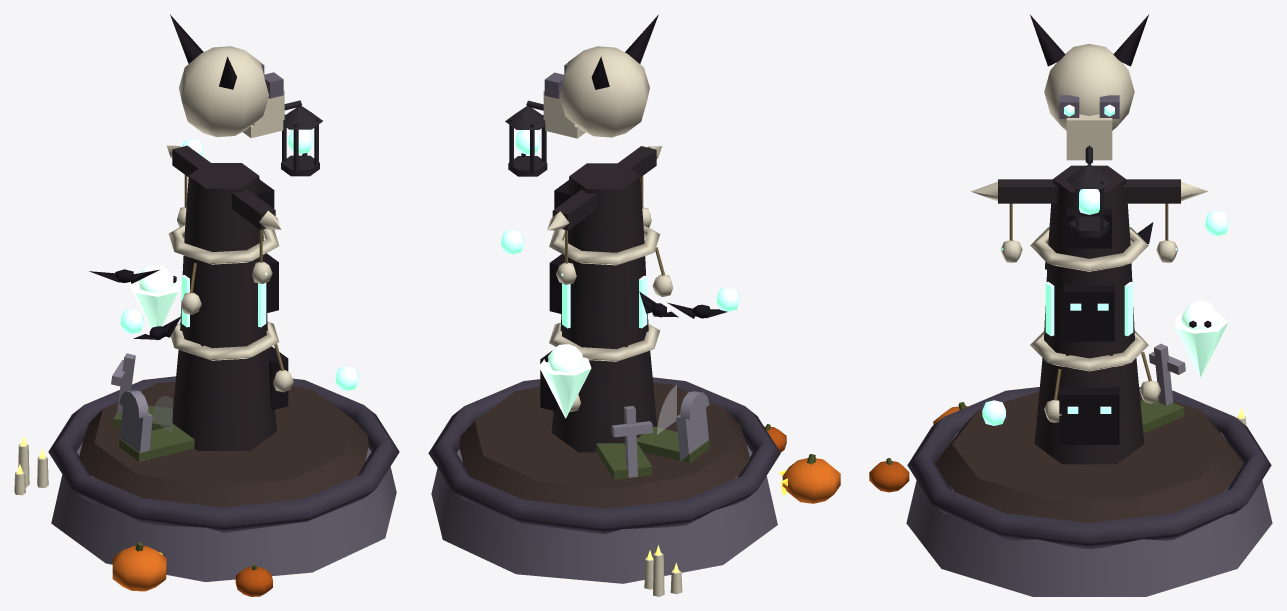
File: tower_necromancer_soulChoir.glb
3 views of the same model, side by side, from view 1: azimuth 30°, elevation 25°; view 2: azimuth 150°, elevation 25°; view 3: azimuth 270°, elevation 25° (orthographic). The views are drawn at different scales.
Parts seen in each view (by area): view 1: grave_soil, base, base_rim, pole_0, skull_cranium, pole_1, pole_2, deco_hw_jack_body, bone_ring_1, crossbar, bone_ring_0, deco_hw_grave_0_mound (+14 smaller); view 2: grave_soil, base, base_rim, pole_0, pole_1, skull_cranium, pole_2, deco_hw_jack_body, crossbar, bone_ring_1, bone_ring_0, deco_hw_ghost_sheet (+12 smaller); view 3: grave_soil, base, base_rim, pole_0, skull_cranium, pole_1, pole_2, pole_face_0, crossbar, pole_face_1, bone_ring_1, bone_ring_0 (+11 smaller).
Part boxes in pixels (bbox=[...]): grave_soil: bbox=[79, 381, 368, 507]; base: bbox=[51, 442, 396, 582]; base_rim: bbox=[48, 376, 399, 532]; pole_0: bbox=[172, 348, 276, 450]; skull_cranium: bbox=[179, 46, 268, 137]; pole_1: bbox=[180, 240, 267, 348]; pole_2: bbox=[184, 163, 263, 251]; deco_hw_jack_body: bbox=[112, 546, 166, 591]; bone_ring_1: bbox=[168, 224, 279, 264]; crossbar: bbox=[172, 145, 275, 229]; bone_ring_0: bbox=[170, 322, 279, 360]; deco_hw_grave_0_mound: bbox=[119, 425, 194, 461]; grave_soil: bbox=[459, 382, 749, 508]; base: bbox=[431, 444, 777, 583]; base_rim: bbox=[428, 377, 780, 534]; pole_0: bbox=[551, 350, 657, 452]; pole_1: bbox=[560, 240, 648, 349]; skull_cranium: bbox=[559, 46, 649, 137]; pole_2: bbox=[568, 163, 644, 252]; deco_hw_jack_body: bbox=[782, 458, 840, 503]; crossbar: bbox=[552, 146, 656, 230]; bone_ring_1: bbox=[549, 225, 660, 265]; bone_ring_0: bbox=[549, 322, 660, 361]; deco_hw_ghost_sheet: bbox=[539, 357, 591, 418]; grave_soil: bbox=[935, 391, 1243, 522]; base: bbox=[906, 432, 1272, 596]; base_rim: bbox=[907, 387, 1271, 549]; pole_0: bbox=[1034, 358, 1144, 464]; skull_cranium: bbox=[1044, 44, 1134, 130]; pole_1: bbox=[1044, 247, 1134, 358]; pole_2: bbox=[1048, 165, 1130, 258]; pole_face_0: bbox=[1059, 386, 1119, 444]; crossbar: bbox=[998, 179, 1180, 203]; pole_face_1: bbox=[1064, 283, 1114, 341]; bone_ring_1: bbox=[1030, 227, 1148, 271]; bone_ring_0: bbox=[1030, 331, 1148, 371].
Bounding box in the file's own units: 0.4215 × 0.5985 × 0.4404.
